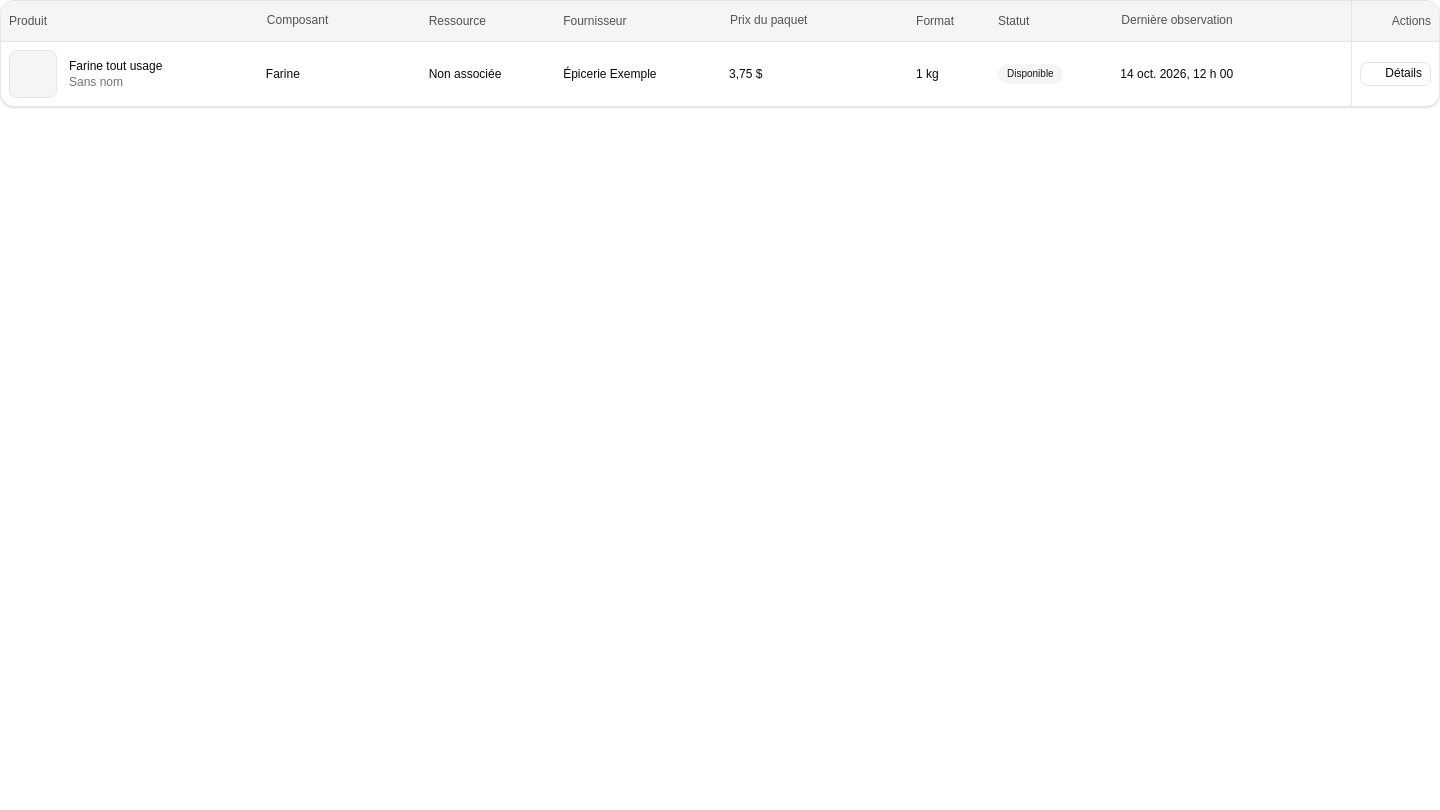
Test: SupplyOffersTable › displays details with secure supplier links
Expected: the picture named "Image indisponible pour Farine tout usage" is shown, [9,50,57,98]
Click the button with aria-label "Afficher les détails de Farine tout usage" at (1396, 74), box [1360,62,1431,86]
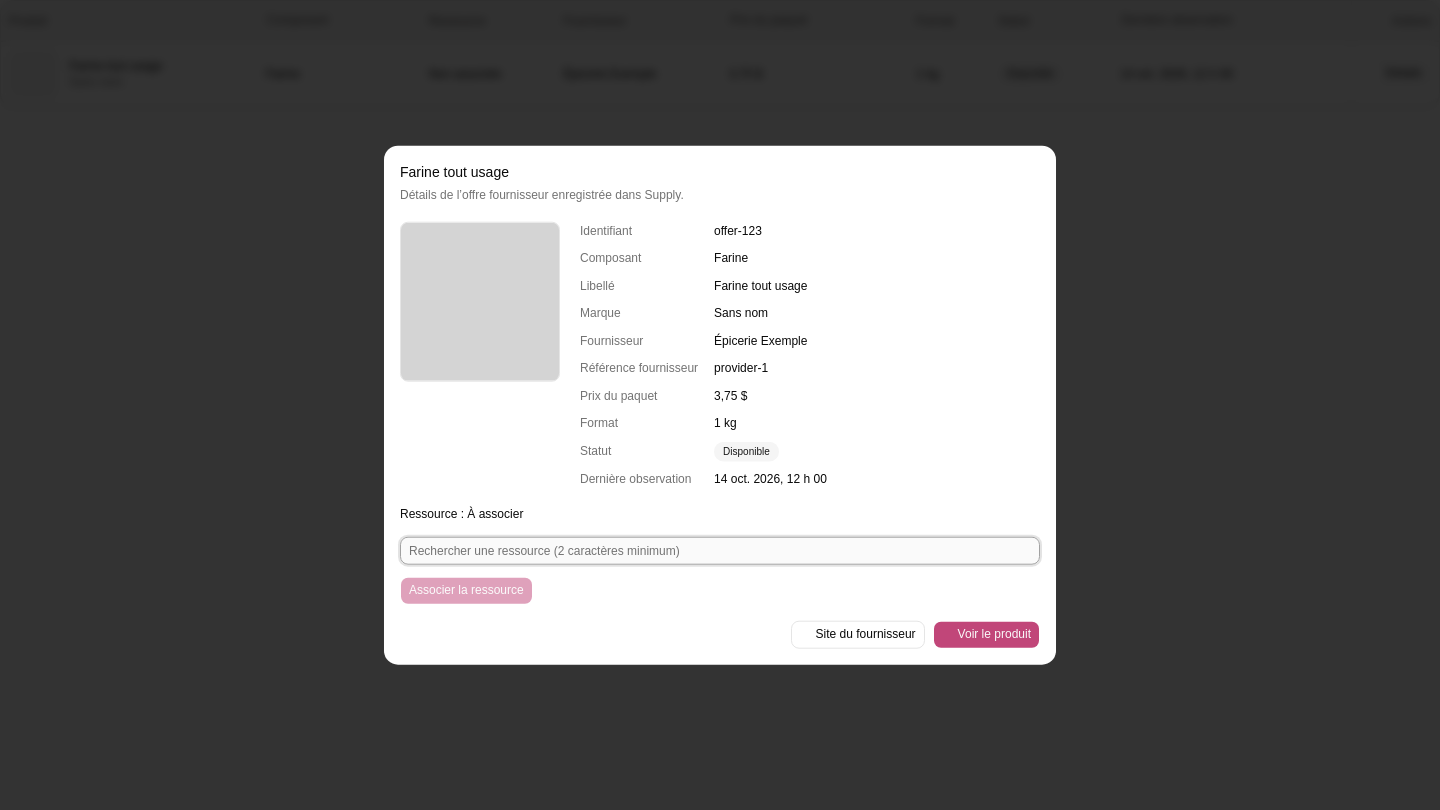
Expected: the text "offer-123" is shown, [714,223,762,237]
Expected: the text "provider-1" is shown, [714,361,768,375]
